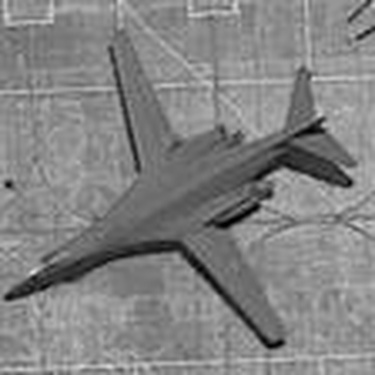airplane: (6, 18, 364, 355)
